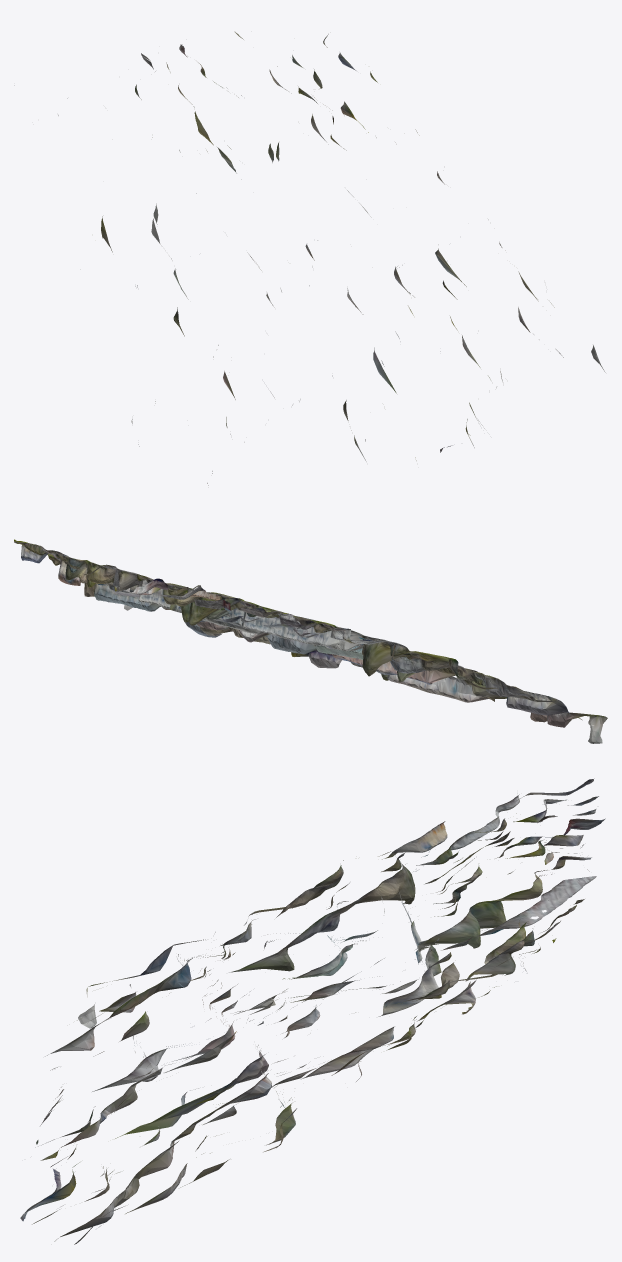
The model's file is render_lod1.glb.
3 renders of one model, top to bottom at view 1: azimuth 30°, elevation 25°; view 2: azimuth 150°, elevation 25°; view 3: azimuth 270°, elevation 25°, orthographic. The views are drawn at different scales.
Parts seen in each view (by area): view 1: geometry_0; view 2: geometry_0; view 3: geometry_0.
Part boxes in pixels (left/top/right/bottom): geometry_0: left=14, top=31, right=605, bottom=485; geometry_0: left=14, top=539, right=607, bottom=743; geometry_0: left=20, top=778, right=605, bottom=1244.
Size of the model in its own units: 0.5426 by 0.2994 by 0.5194.
